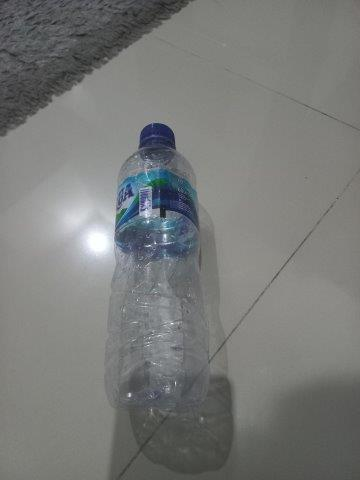botolplastik: (102, 124, 210, 410)
